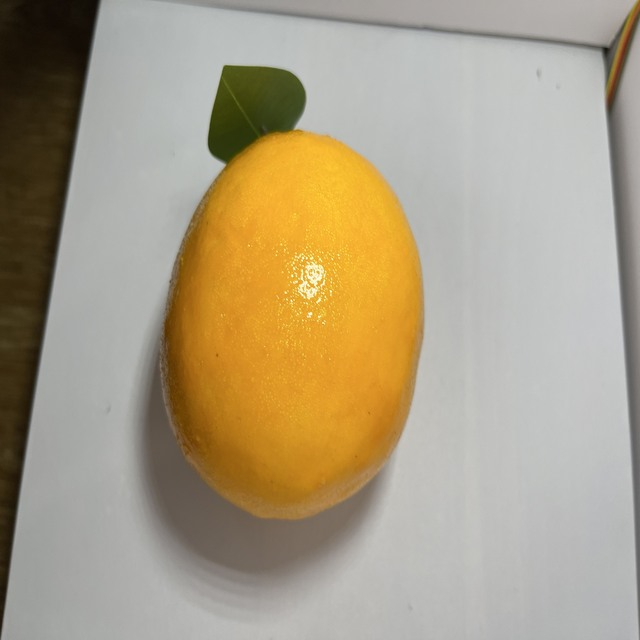Cam vang: (148, 119, 430, 530)
